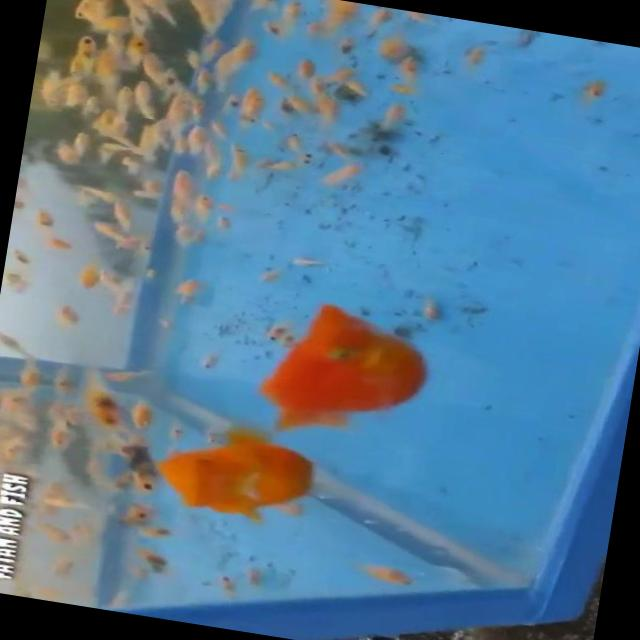PlatyFish: (232, 286, 448, 454), (154, 424, 321, 525)
